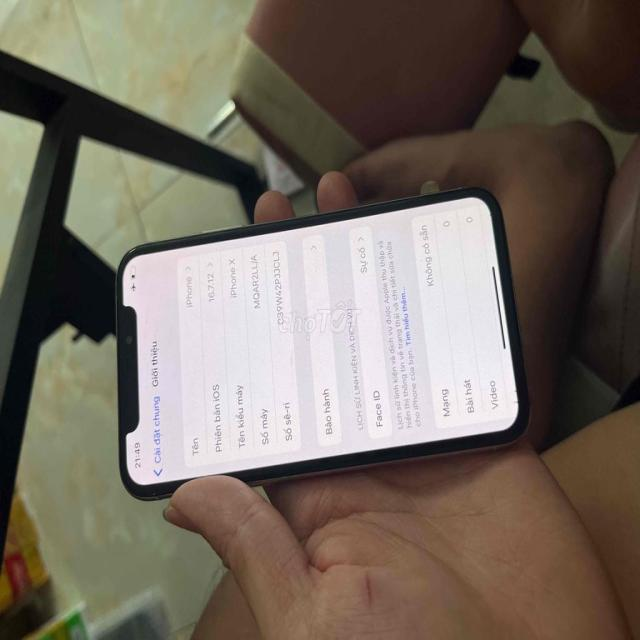gen_x_xs: (88, 181, 544, 528)
